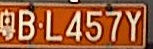B: (19, 10, 35, 40)
